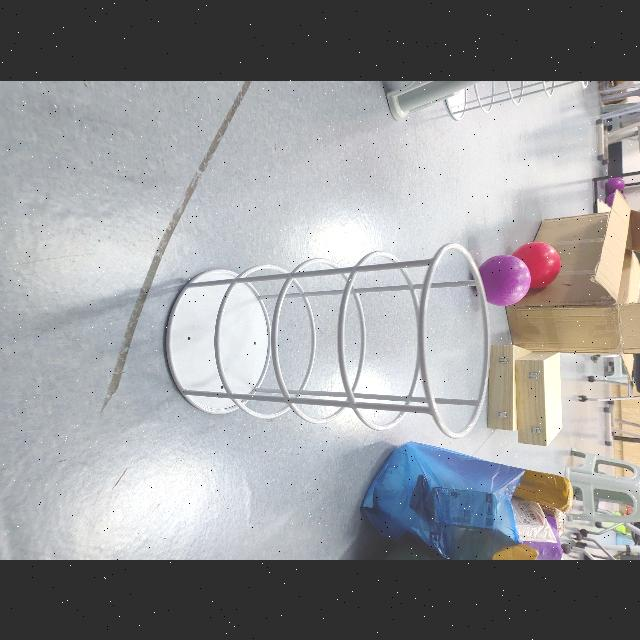S: (160, 240, 496, 440)
